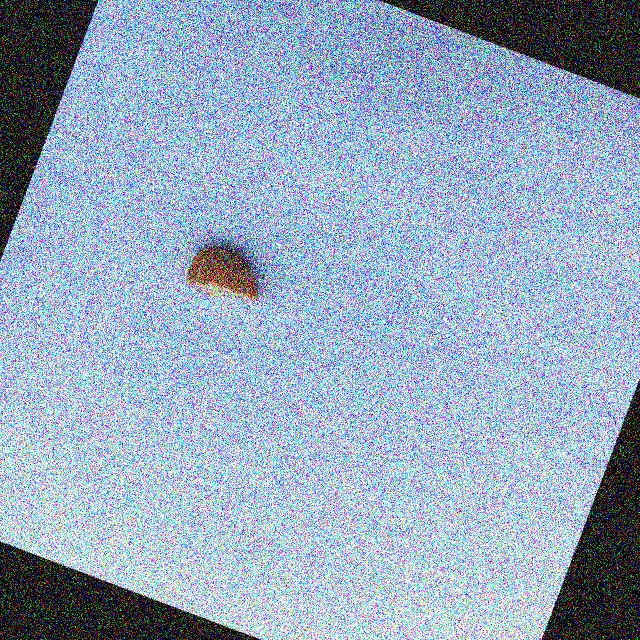grade4: (174, 229, 281, 319)
